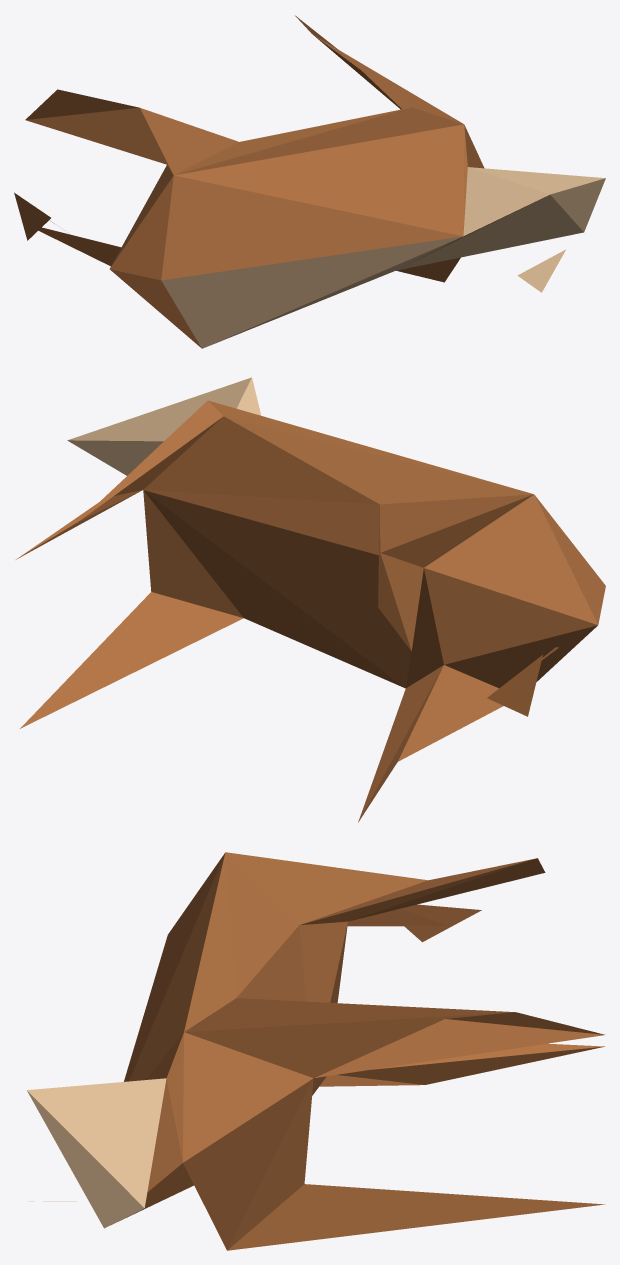
Rendered from prop.l10-cow-carcass.lod2.glb.
3 views of the same model, one above another, from view 1: azimuth 30°, elevation 25°; view 2: azimuth 150°, elevation 25°; view 3: azimuth 270°, elevation 25° (orthographic). The views are drawn at different scales.
Parts seen in each view (by area): view 1: body; view 2: body; view 3: body.
Boxes of the visible parts, left/top/right/bottom form: body: left=14, top=15, right=605, bottom=348; body: left=16, top=377, right=605, bottom=822; body: left=27, top=852, right=605, bottom=1250.
Bounding box in the file's own units: 2.43 × 0.8816 × 2.02.
